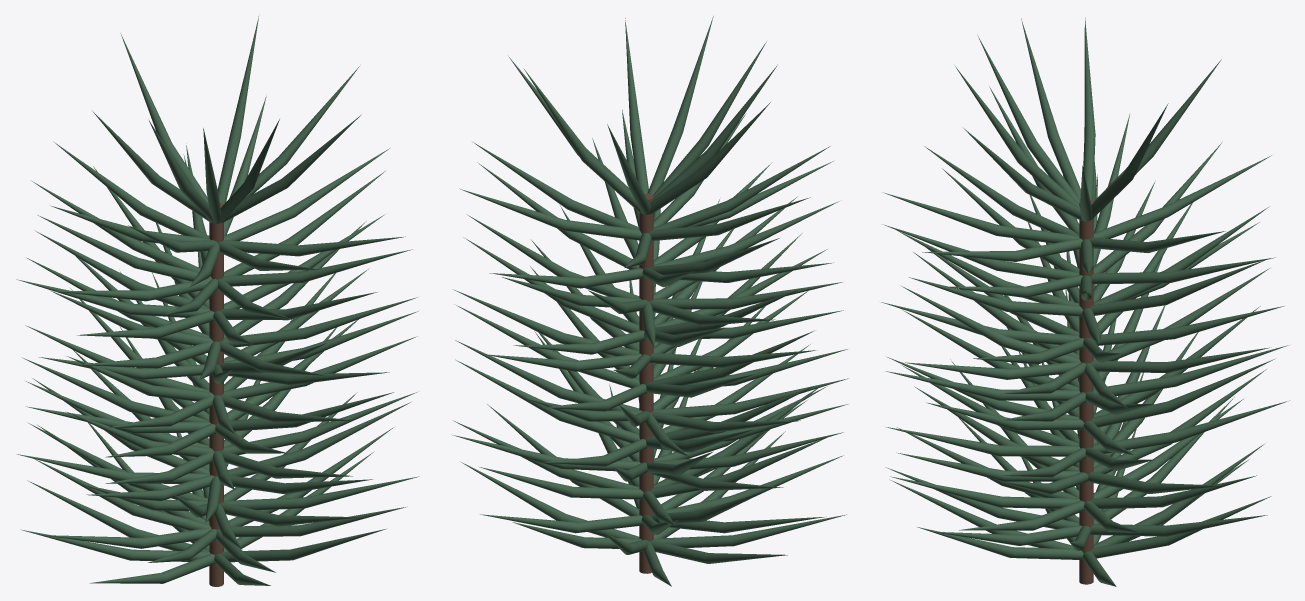
The model's file is pine needle cactus.fbx.
The picture shows the model from 3 angles, left to right: view 1: azimuth 30°, elevation 25°; view 2: azimuth 150°, elevation 25°; view 3: azimuth 270°, elevation 25°; orthographic projection.
Parts seen in each view (by area): view 1: NeedleStem_003, Cone2668, Cone2688, Cone2607, Cone2652, Cone2676, Cone2679, Cone2620, Cone2596, Cone2598, Cone2677, Cone2670 (+70 smaller); view 2: NeedleStem_003, Cone2680, Cone2683, Cone2678, Cone2591, Cone2624, Cone2663, Cone2631, Cone2688, Cone2645, Cone2676, Cone2608 (+63 smaller); view 3: NeedleStem_003, Cone2623, Cone2653, Cone2675, Cone2669, Cone2677, Cone2633, Cone2637, Cone2603, Cone2665, Cone2664, Cone2621 (+60 smaller).
Boxes of the visible parts, <box> form: NeedleStem_003: <box>209,202,223,586</box>; Cone2668: <box>222,249,412,286</box>; Cone2688: <box>217,16,258,204</box>; Cone2607: <box>223,476,419,510</box>; Cone2652: <box>223,297,417,347</box>; Cone2676: <box>224,148,389,241</box>; Cone2679: <box>222,236,405,256</box>; Cone2620: <box>223,392,417,455</box>; Cone2596: <box>231,506,407,537</box>; Cone2598: <box>34,459,211,530</box>; Cone2677: <box>54,142,209,238</box>; Cone2670: <box>37,215,211,281</box>; NeedleStem_003: <box>639,193,653,573</box>; Cone2680: <box>459,188,641,240</box>; Cone2683: <box>647,16,713,195</box>; Cone2678: <box>653,146,830,229</box>; Cone2591: <box>653,514,846,547</box>; Cone2624: <box>455,359,639,443</box>; Cone2663: <box>653,282,842,309</box>; Cone2631: <box>653,378,848,417</box>; Cone2688: <box>523,68,641,213</box>; Cone2645: <box>649,350,817,367</box>; Cone2676: <box>473,142,639,229</box>; Cone2608: <box>479,467,643,499</box>; NeedleStem_003: <box>1079,200,1093,584</box>; Cone2623: <box>886,427,1080,456</box>; Cone2653: <box>1092,306,1284,345</box>; Cone2675: <box>883,192,1079,243</box>; Cone2669: <box>1091,257,1274,284</box>; Cone2677: <box>1093,155,1271,238</box>; Cone2633: <box>1091,359,1274,427</box>; Cone2637: <box>1093,345,1288,396</box>; Cone2603: <box>890,476,1080,508</box>; Cone2665: <box>1090,260,1264,315</box>; Cone2664: <box>908,277,1082,316</box>; Cone2621: <box>1093,400,1289,453</box>.
Size of the model in its own units: 15.36 by 21.44 by 15.38.
